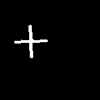single_crochet: (15, 25, 47, 57)
